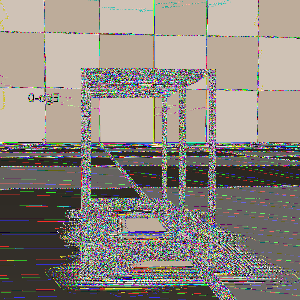Rack: (76, 64, 220, 265)
